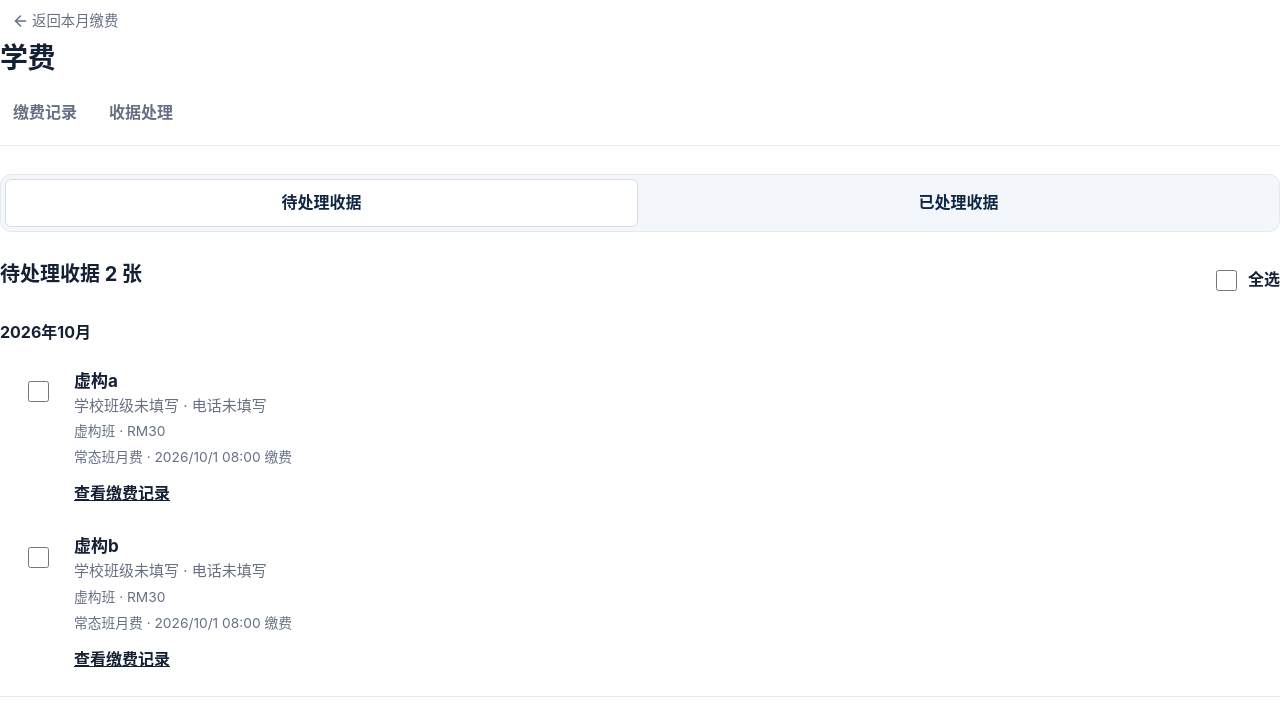
Scenario: shows the actual RPC count rather than the number selected
This screenshot has width=1280, height=720.
Expected: the heading "待处理收据 2 张" is shown, [0,258,142,290]
Step 1. Click the checkbox labelled "全选" → (1226, 280), box [1216,270,1237,290]
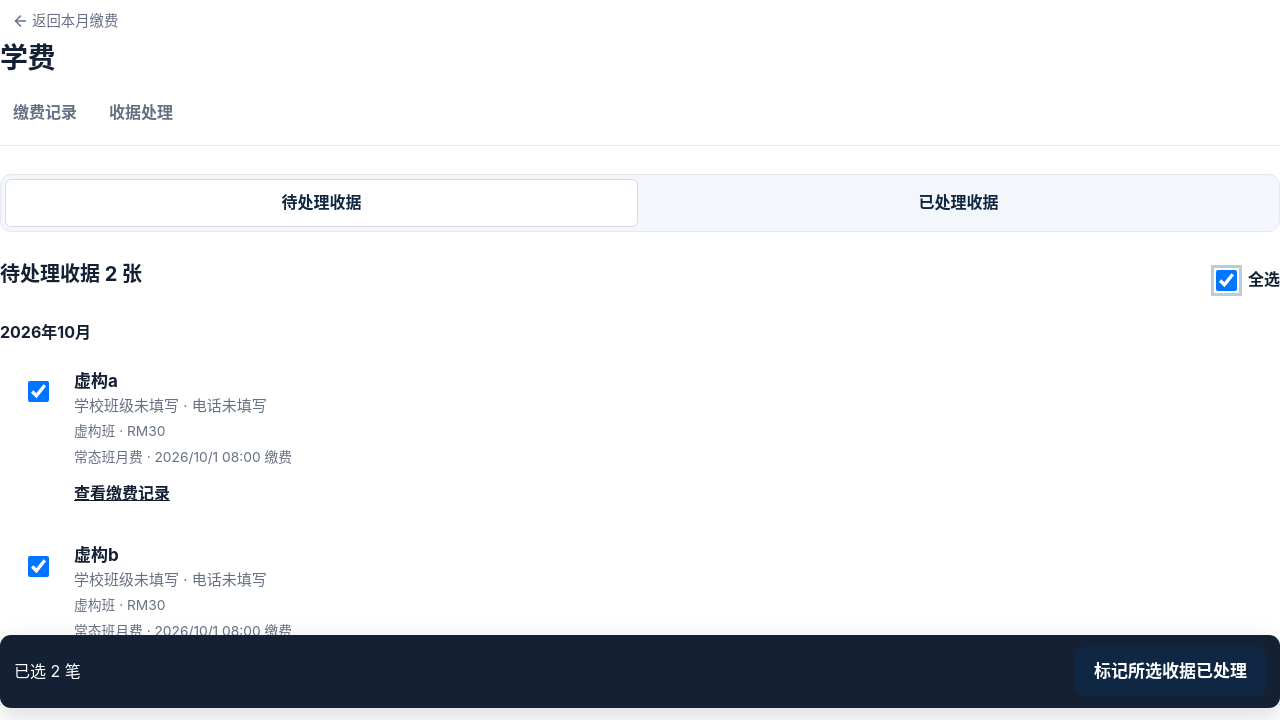
Step 2. Click the button "标记所选收据已处理" → (1170, 671), box [1075,647,1266,696]
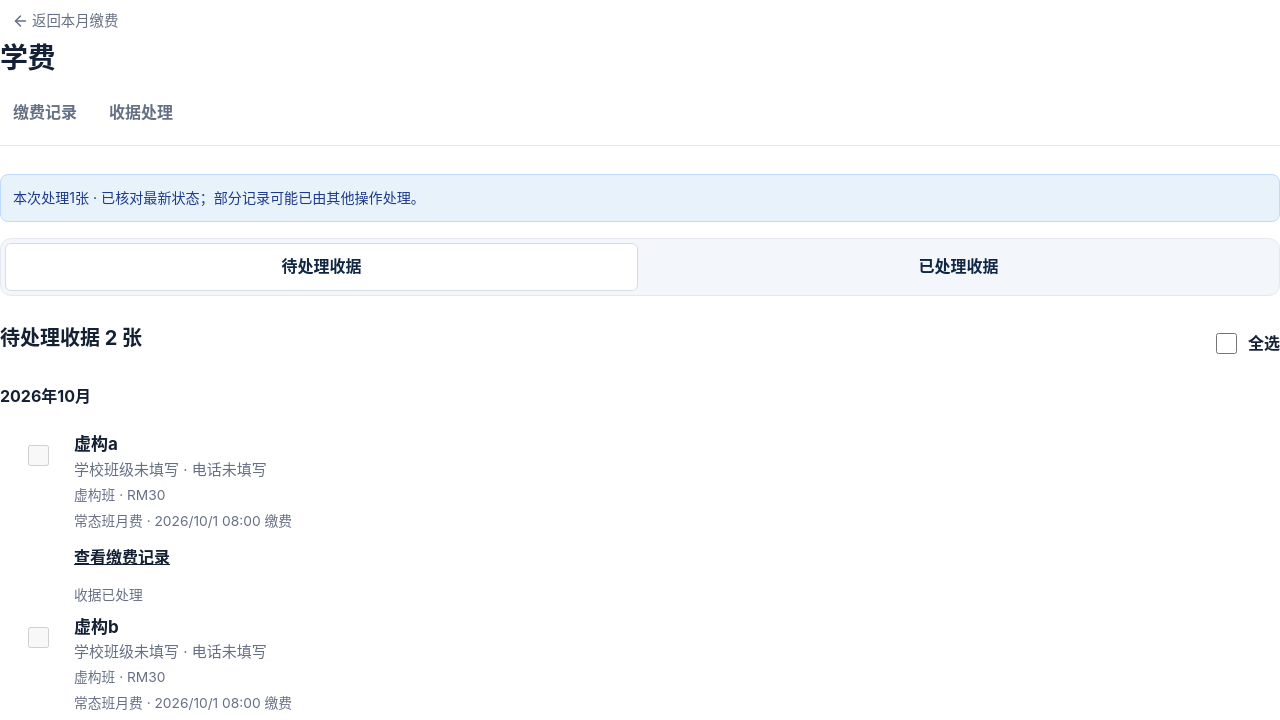
Expected: the text "本次处理1张 · 已核对最新状态；部分记录可能已由其他操作处理。" is shown, [13,187,425,209]
